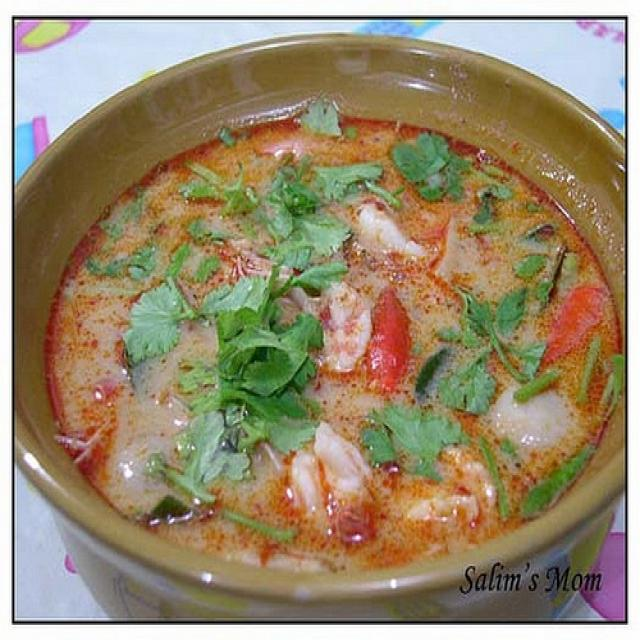汤锅炖物: (27, 42, 619, 591)
